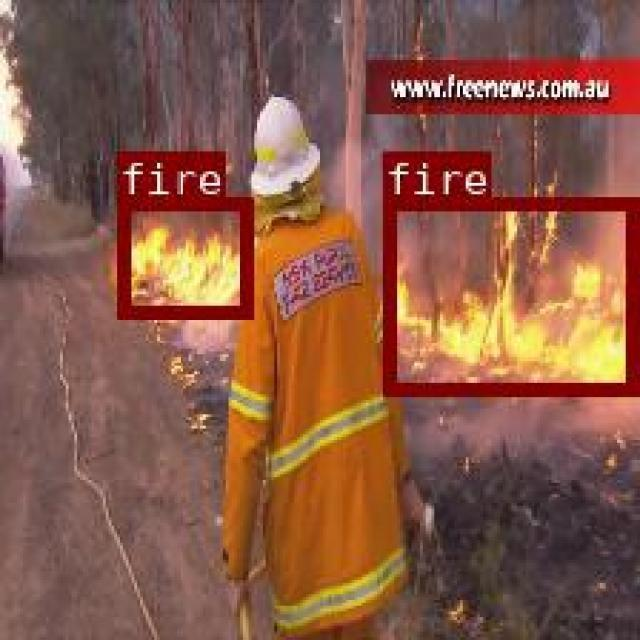fire: (381, 197, 634, 391), (116, 196, 249, 316)
